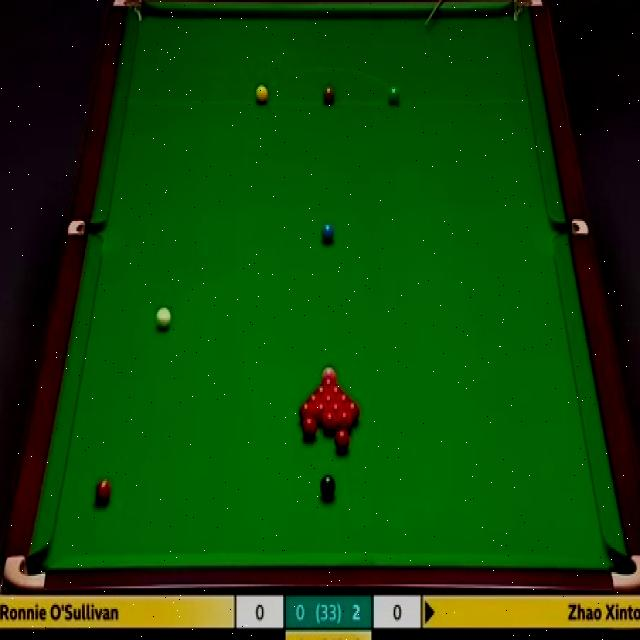black-ball: (319, 474, 337, 502)
blue-ball: (320, 222, 335, 245)
brown-ball: (322, 84, 335, 105)
green-ball: (387, 84, 400, 105)
pink-ball: (321, 364, 338, 380)
red-ball: (95, 479, 113, 507), (334, 431, 352, 454), (301, 416, 317, 438), (336, 411, 352, 433), (322, 411, 336, 433), (329, 403, 344, 423), (299, 401, 315, 418), (344, 403, 361, 419), (315, 402, 328, 421), (306, 393, 321, 403), (337, 394, 352, 404), (321, 394, 337, 403), (329, 385, 345, 394), (314, 385, 329, 394), (321, 377, 337, 385)
white-ball: (154, 308, 172, 332)
yellow-ball: (256, 85, 268, 105)
